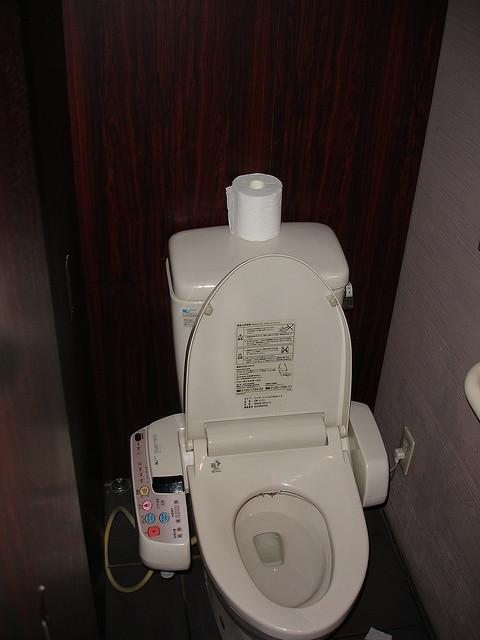Sanitario: (135, 218, 393, 634)
